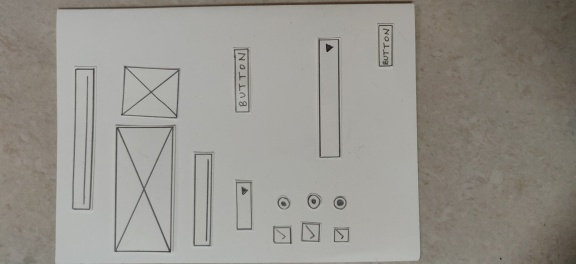button: (234, 49, 249, 112), (378, 25, 391, 66)
checkbox: (334, 230, 351, 245), (304, 223, 318, 241), (275, 226, 290, 242)
dropdown: (318, 38, 338, 158), (235, 181, 250, 232)
img: (117, 126, 171, 252), (124, 67, 178, 118)
radio: (332, 192, 355, 213), (275, 194, 294, 213), (306, 193, 325, 212)
text: (75, 66, 89, 211), (195, 155, 210, 246)
